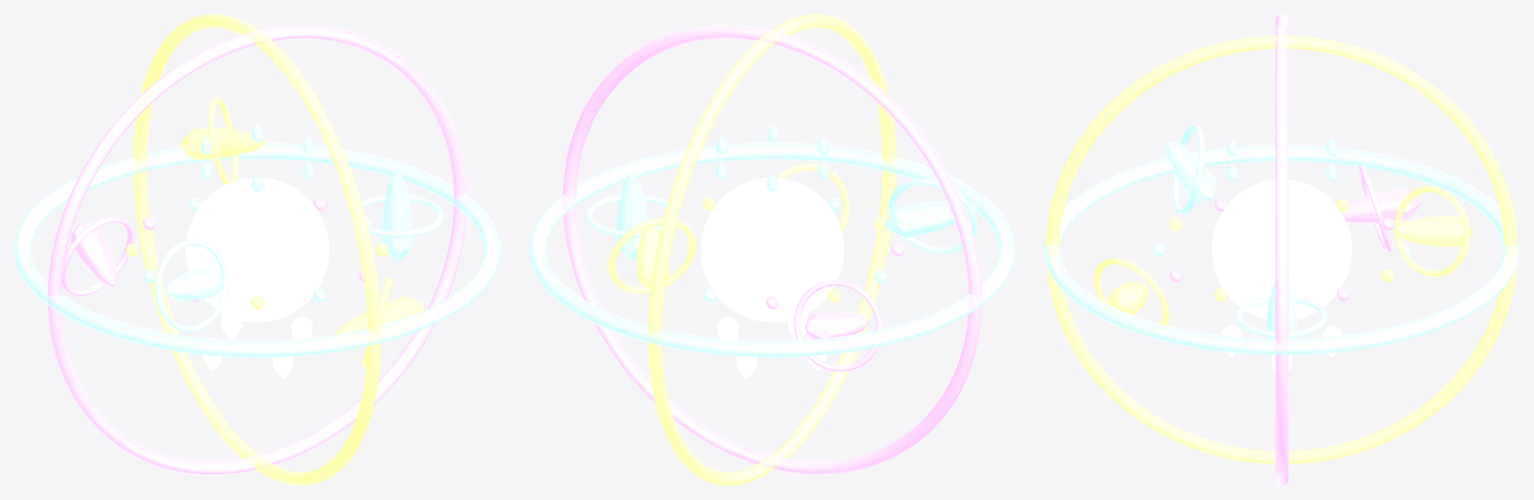
File: v3_new_boss_compiler_reborn_v3.glb
3 renders of one model, left to right at view 1: azimuth 30°, elevation 25°; view 2: azimuth 150°, elevation 25°; view 3: azimuth 270°, elevation 25°, orthographic. The views are drawn at different scales.
Visible parts, largest first — view 1: cr_halo_v1, cr_halo_h, cr_void, cr_halo_v2, cr_shard_0, cr_shard_r_3, cr_shard_1, cr_shard_2, cr_shard_3, cr_shard_r_2, cr_shard_4, cr_shard_r_1 (+1 smaller); view 2: cr_halo_v1, cr_halo_h, cr_void, cr_halo_v2, cr_shard_3, cr_shard_0, cr_shard_r_2, cr_shard_2, cr_shard_r_1, cr_shard_r_3, cr_shard_1, cr_shard_r_0 (+1 smaller); view 3: cr_halo_v2, cr_halo_h, cr_void, cr_halo_v1, cr_shard_1, cr_shard_2, cr_shard_r_1, cr_shard_3, cr_shard_r_0, cr_shard_r_3, cr_shard_r_4, cr_shard_4 (+2 smaller).
Boxes of the visible parts, <box> form: cr_halo_v1: <box>47,25,467,474</box>; cr_halo_h: <box>14,142,500,357</box>; cr_void: <box>185,177,329,322</box>; cr_halo_v2: <box>133,14,381,485</box>; cr_shard_0: <box>381,172,413,261</box>; cr_shard_r_3: <box>154,239,228,332</box>; cr_shard_1: <box>180,128,265,159</box>; cr_shard_2: <box>71,222,116,286</box>; cr_shard_3: <box>165,266,222,300</box>; cr_shard_r_2: <box>61,216,133,295</box>; cr_shard_4: <box>334,296,424,335</box>; cr_shard_r_1: <box>208,97,239,184</box>; cr_halo_v1: <box>562,25,982,474</box>; cr_halo_h: <box>529,142,1015,357</box>; cr_void: <box>700,177,844,322</box>; cr_halo_v2: <box>648,14,896,485</box>; cr_shard_3: <box>885,200,978,238</box>; cr_shard_0: <box>616,172,647,261</box>; cr_shard_r_2: <box>793,279,882,371</box>; cr_shard_2: <box>804,310,868,339</box>; cr_shard_r_1: <box>608,217,695,293</box>; cr_shard_r_3: <box>888,178,977,253</box>; cr_shard_1: <box>637,226,669,288</box>; cr_shard_r_0: <box>585,194,679,237</box>; cr_halo_v2: <box>1046,35,1517,464</box>; cr_halo_h: <box>1044,144,1519,355</box>; cr_void: <box>1211,179,1352,318</box>; cr_halo_v1: <box>1275,14,1288,485</box>; cr_shard_1: <box>1393,216,1472,247</box>; cr_shard_2: <box>1341,189,1421,223</box>; cr_shard_r_1: <box>1394,186,1469,276</box>; cr_shard_3: <box>1166,141,1217,201</box>; cr_shard_r_0: <box>1236,296,1327,337</box>; cr_shard_r_3: <box>1172,124,1205,214</box>; cr_shard_r_4: <box>1094,258,1169,325</box>; cr_shard_4: <box>1109,282,1147,314</box>.
Size of the model in its own units: 3.31 by 3.28 by 3.31.
